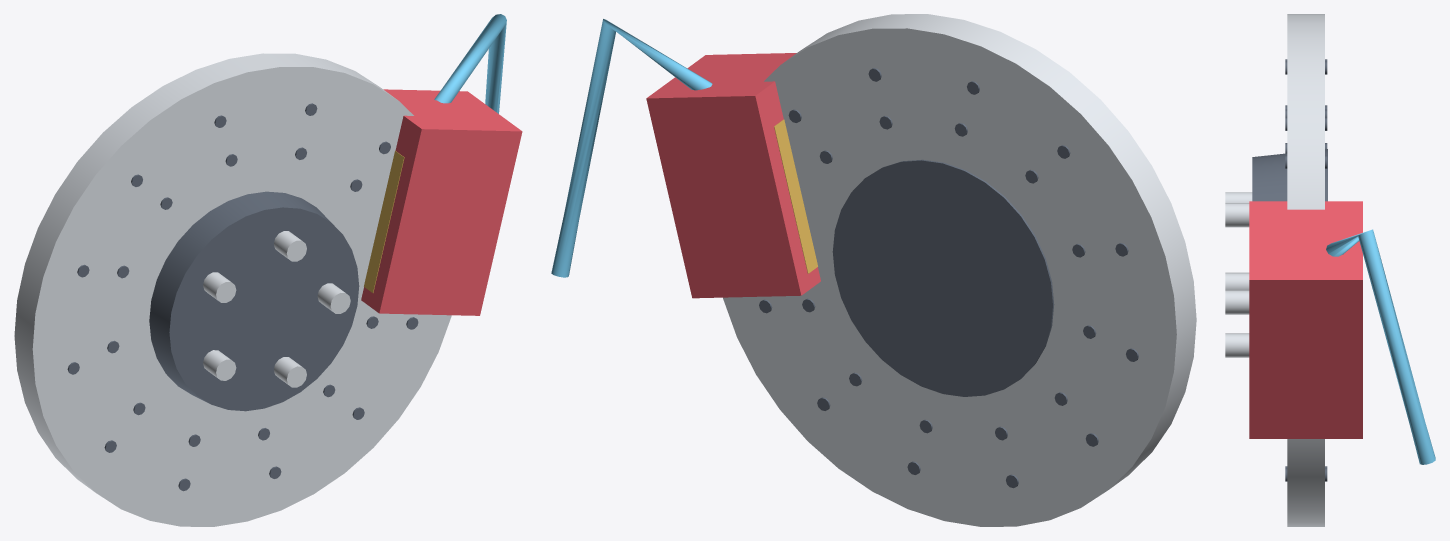
File: mech-brakes.glb
The picture shows the model from 3 angles, left to right: view 1: azimuth 30°, elevation 25°; view 2: azimuth 150°, elevation 25°; view 3: azimuth 270°, elevation 25°; orthographic projection. The views are drawn at different scales.
Parts seen in each view (by area): view 1: RotorDisc, HubHat, CaliperBody, BrakeHose, BrakePad, Stud3, Stud2, Stud4, Stud0, Stud1; view 2: RotorDisc, HubHat, CaliperBody, BrakeHose, BrakePad; view 3: CaliperBody, RotorDisc, BrakeHose, HubHat, Stud0, Stud4, Stud1, Stud3, Stud2.
Part boxes in pixels (<box>): RotorDisc: <box>14,53,451,526</box>; HubHat: <box>149,191,359,411</box>; CaliperBody: <box>361,89,522,315</box>; BrakeHose: <box>434,14,506,113</box>; BrakePad: <box>364,150,404,292</box>; Stud3: <box>203,350,236,380</box>; Stud2: <box>203,272,236,302</box>; Stud4: <box>274,357,306,387</box>; Stud0: <box>317,283,350,313</box>; Stud1: <box>274,231,306,261</box>; RotorDisc: <box>723,14,1196,526</box>; HubHat: <box>832,159,1054,396</box>; CaliperBody: <box>646,53,820,298</box>; BrakeHose: <box>551,19,712,277</box>; BrakePad: <box>774,119,817,273</box>; CaliperBody: <box>1249,201,1362,438</box>; RotorDisc: <box>1287,14,1324,526</box>; BrakeHose: <box>1326,229,1435,464</box>; HubHat: <box>1252,149,1327,201</box>; Stud0: <box>1225,290,1249,314</box>; Stud4: <box>1225,333,1249,357</box>; Stud1: <box>1225,203,1249,227</box>; Stud3: <box>1225,272,1249,290</box>; Stud2: <box>1225,192,1252,202</box>.
Size of the model in its own units: 2.33 by 1.9 by 0.7797.
